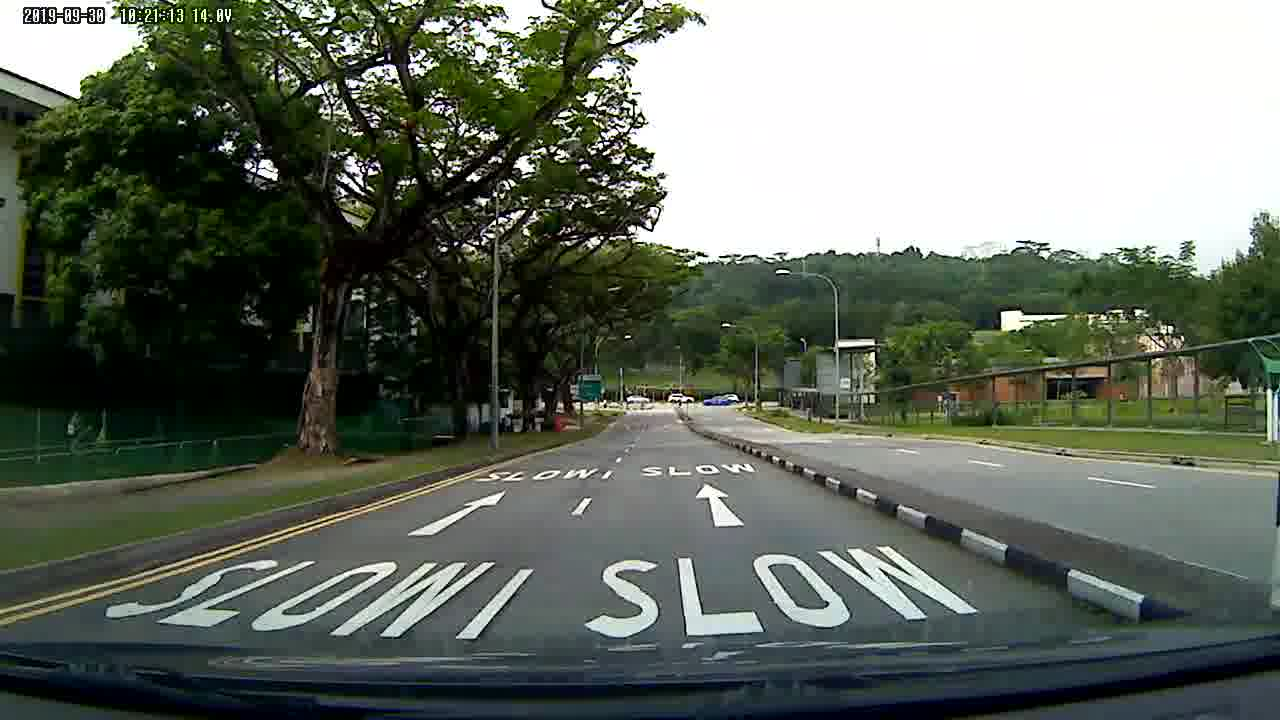car: (664, 391, 695, 408), (704, 392, 734, 408), (625, 391, 653, 405)
